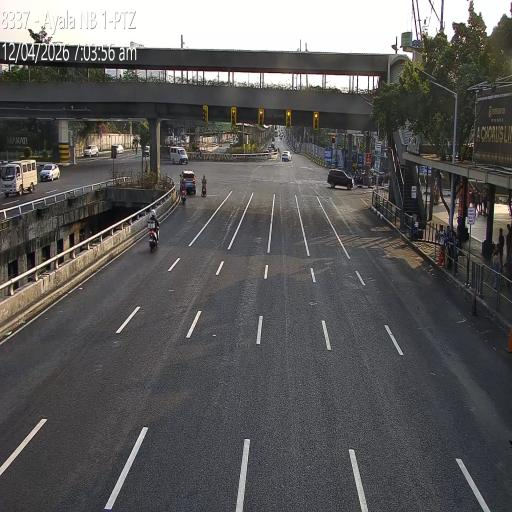Car: (2, 156, 40, 200), (169, 141, 188, 168), (328, 169, 353, 189), (181, 169, 196, 196), (40, 163, 60, 182), (83, 144, 99, 158), (113, 143, 124, 155), (282, 150, 292, 162)
Motor: (147, 216, 159, 252), (180, 178, 187, 202), (200, 175, 207, 197)
Not Accident: (176, 166, 198, 206)
